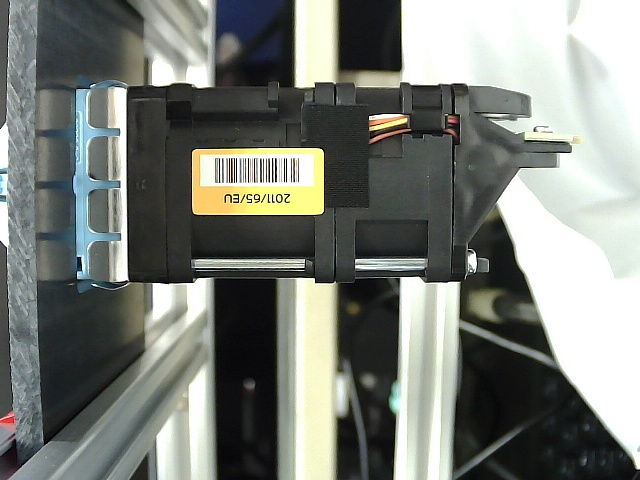1_0: (56, 65, 593, 304)
